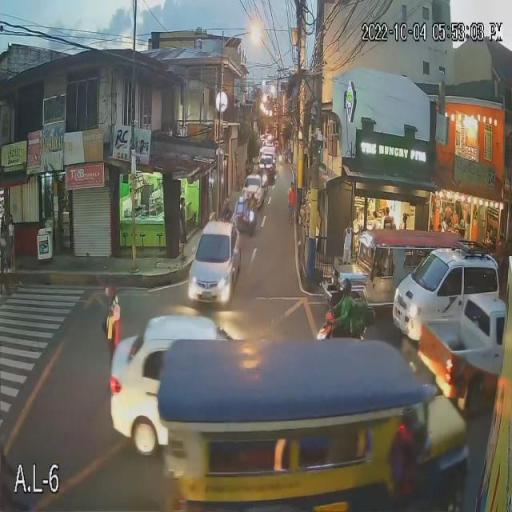helmet: (338, 279, 354, 300)
motorcycle: (315, 314, 370, 340)
rider: (330, 295, 355, 340)
